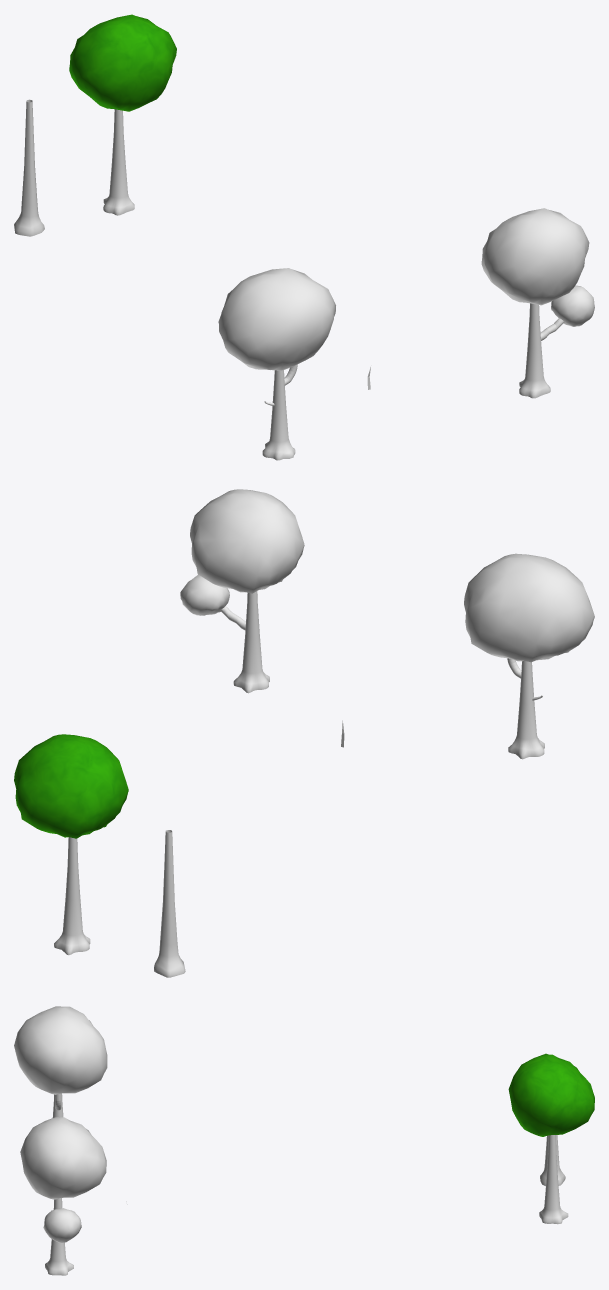
Rendered from ForestTest.fbx.
3 views of the same model, one above another, from view 1: azimuth 30°, elevation 25°; view 2: azimuth 150°, elevation 25°; view 3: azimuth 270°, elevation 25° (orthographic). The views are drawn at different scales.
Parts seen in each view (by area): view 1: Tree2, Tree3, Tree1, Circle; view 2: Tree2, Tree3, Tree1, Circle; view 3: Tree3, Tree1, Tree2, Circle.
Part boxes in pixels (box(x1,y1,x2,y2)): Tree2: box(218, 268, 335, 460); Tree3: box(481, 208, 594, 398); Tree1: box(69, 14, 176, 215); Circle: box(14, 99, 44, 236); Tree2: box(464, 553, 594, 759); Tree3: box(180, 489, 304, 693); Tree1: box(14, 734, 128, 955); Circle: box(154, 830, 185, 977); Tree3: box(20, 1116, 106, 1275); Tree1: box(508, 1053, 594, 1224); Tree2: box(14, 1006, 107, 1117); Circle: box(540, 1135, 565, 1186).
Bounding box in the file's own units: 1061 × 517 × 1693.
